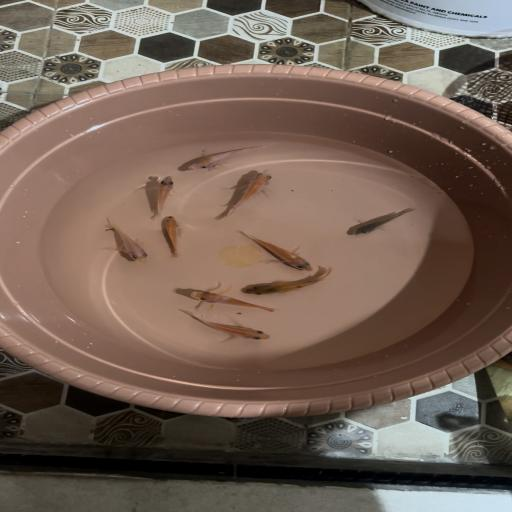nila: (234, 268, 378, 300), (222, 228, 322, 272), (98, 217, 162, 280), (165, 141, 294, 171), (181, 286, 294, 320), (182, 311, 286, 346), (216, 170, 283, 224), (326, 206, 430, 239), (141, 170, 183, 218), (152, 218, 194, 260)
